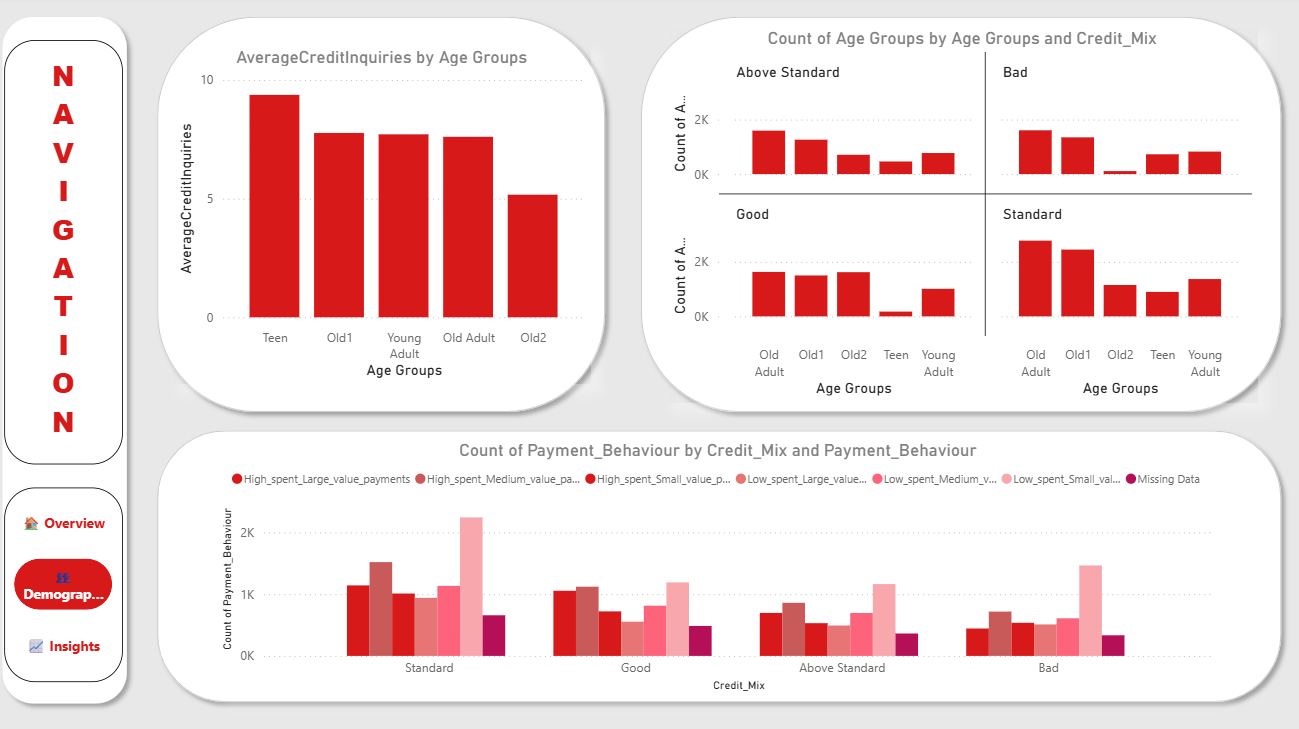

The dashboard page shown, as its layout file describes it:
{"tool":"powerbi","page":{"name":"👥 Demographics","canvas":[1280,720],"ordinal":1},"visuals":[{"type":"shape","box":[151.6,12.2,456.1,404.8],"z":1000},{"type":"shape","box":[624.9,12.2,644.4,404.8],"z":2000},{"type":"shape","box":[151.6,417,1117.7,283.7],"z":3000},{"type":"clusteredColumnChart","fields":{"Category":["combined_df.Credit_Mix"],"Y":["CountNonNull(combined_df.Payment_Behaviour)"],"Series":["combined_df.Payment_Behaviour"]},"box":[218.9,435.3,980.7,250.7],"z":4000},{"type":"clusteredColumnChart","fields":{"Category":["combined_df.Age Groups"],"Y":["CountNonNull(combined_df.Age Groups)"],"Rows":["combined_df.Credit_Mix"]},"box":[659.1,31.8,578.4,366.8],"z":5000},{"type":"clusteredColumnChart","fields":{"Category":["combined_df.Age Groups"],"Y":["Table.AverageCreditInquiries"]},"box":[176.1,50.1,408.4,330.2],"z":6000},{"type":"shape","box":[0,12.5,140,690],"z":6001},{"type":"pageNavigator","box":[11.2,481.2,116.2,190],"z":6002},{"type":"textbox","box":[11.2,43.8,116.2,415],"z":6003}]}

Visuals, with their boxes in screenshot pixels (x1, y1, x2, y2), scaled from the page's 1280x720 canvas onto the 1299x729 screenshot:
shape: 154, 12, 617, 422
shape: 634, 12, 1288, 422
shape: 154, 422, 1288, 709
clusteredColumnChart - combined_df.Credit_Mix x CountNonNull(combined_df.Payment_Behaviour): 222, 441, 1217, 695
clusteredColumnChart - combined_df.Age Groups x CountNonNull(combined_df.Age Groups): 669, 32, 1256, 404
clusteredColumnChart - combined_df.Age Groups x Table.AverageCreditInquiries: 179, 51, 593, 385
shape: 0, 13, 142, 711
pageNavigator: 11, 487, 129, 680
textbox: 11, 44, 129, 465
